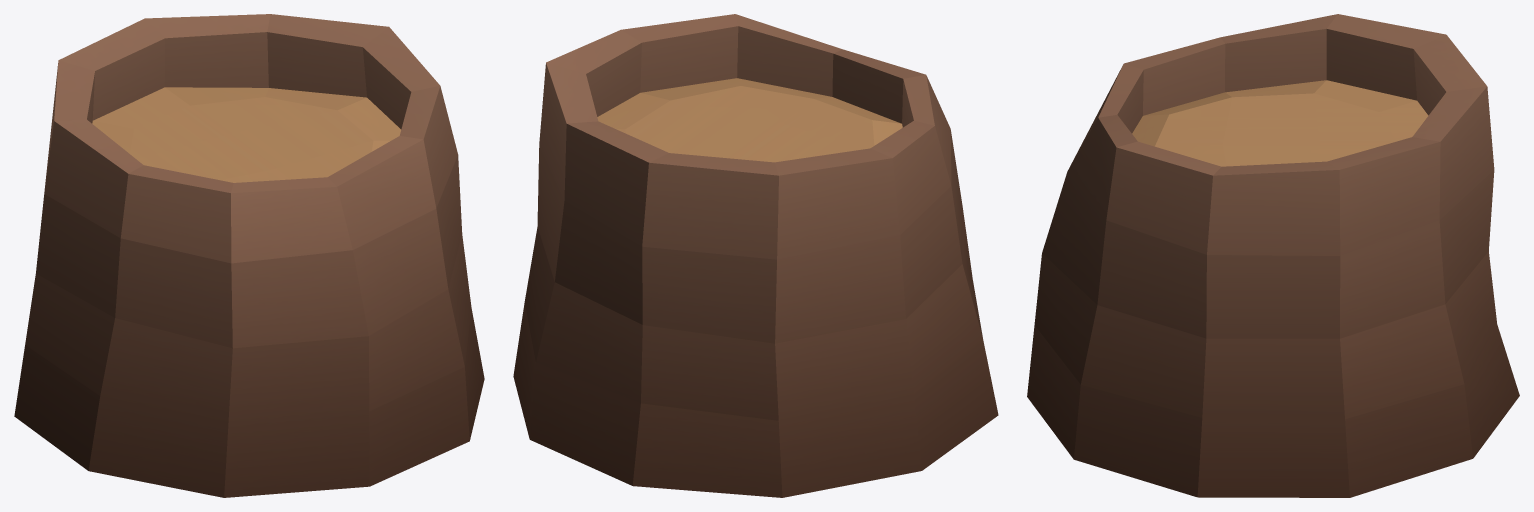
The model's file is pień1.fbx.
The picture shows the model from 3 angles, left to right: view 1: azimuth 30°, elevation 25°; view 2: azimuth 150°, elevation 25°; view 3: azimuth 270°, elevation 25°; orthographic projection. The views are drawn at different scales.
Visible parts, largest first — view 1: pień3; view 2: pień3; view 3: pień3.
Part boxes in pixels (<box>): pień3: <box>14,14,484,497</box>; pień3: <box>513,14,998,497</box>; pień3: <box>1027,14,1519,497</box>.
Size of the model in its own units: 101 by 75.9 by 106.
